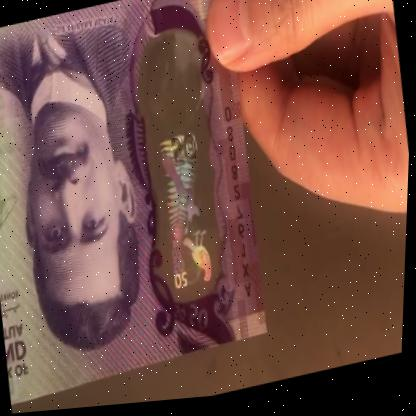50F: (135, 50, 229, 305)
